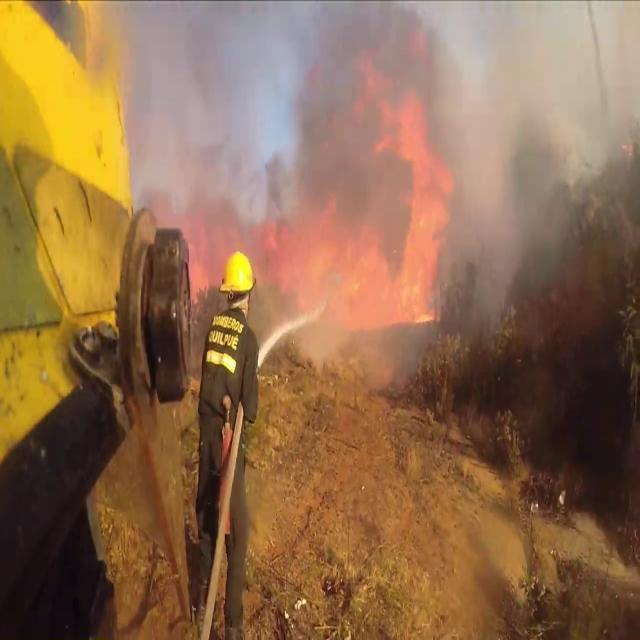Fire: (294, 84, 464, 338)
Smoke: (90, 1, 640, 348)
